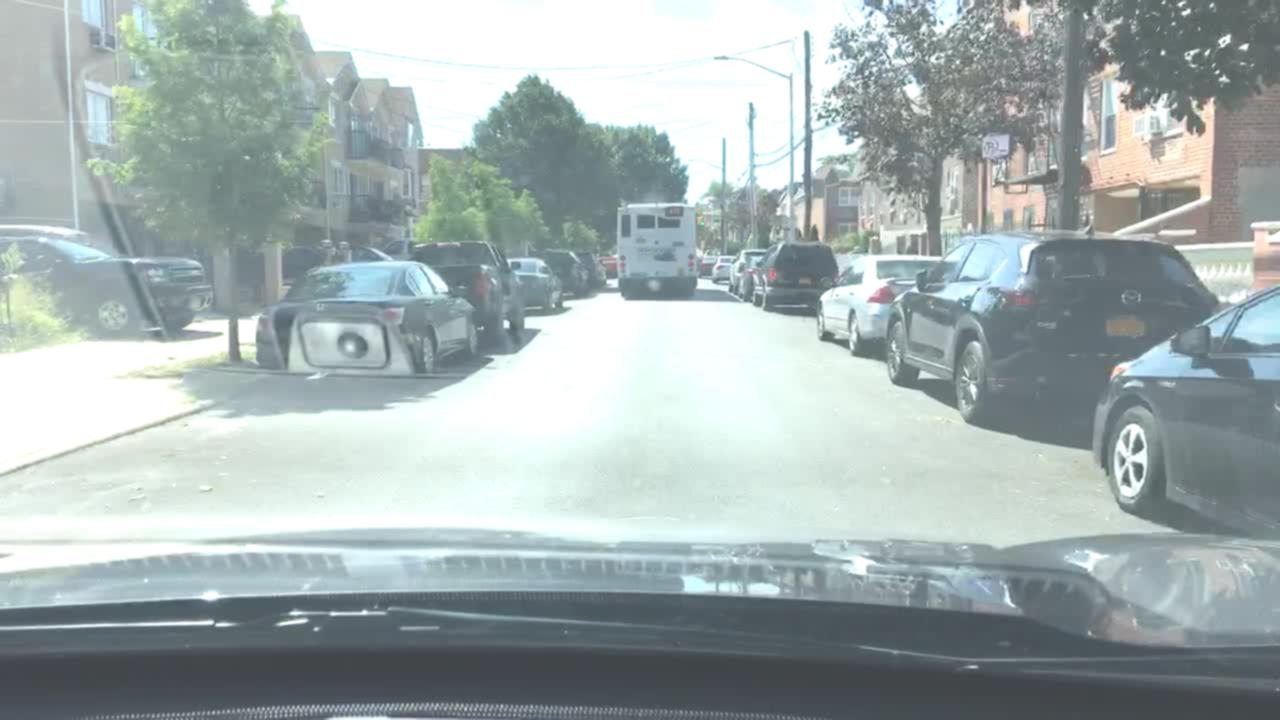Honda: (315, 300, 327, 313)
Mazda: (1118, 288, 1144, 307)
